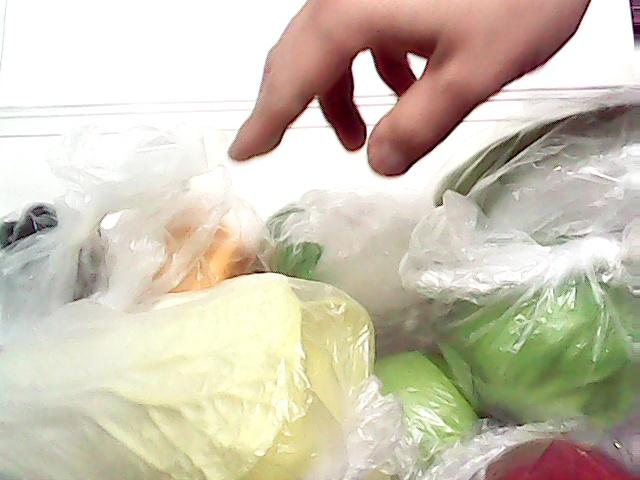apple: (365, 350, 479, 462), (472, 440, 632, 480)
cabbage: (440, 227, 640, 443)
grape: (0, 184, 88, 268)
lemon: (106, 198, 286, 296)
napa cabbage: (1, 279, 367, 480)
pepper: (419, 74, 640, 233)
radish: (266, 192, 450, 336)
